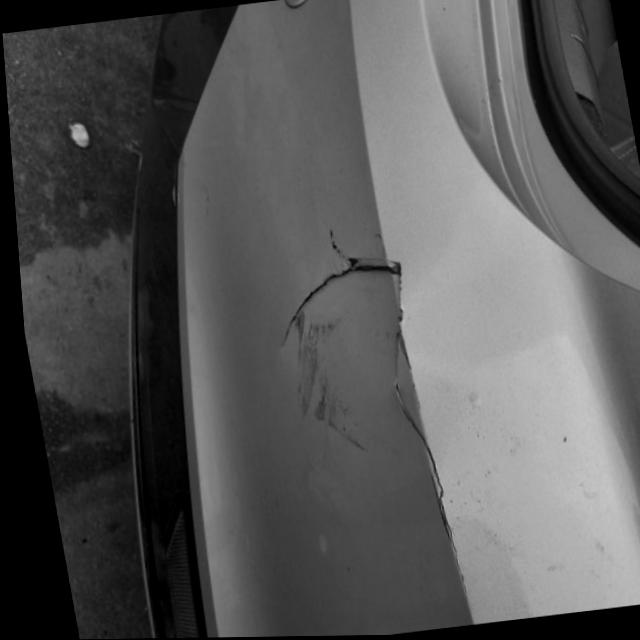Crack: (277, 215, 469, 592)
Scratch: (289, 312, 366, 454)
